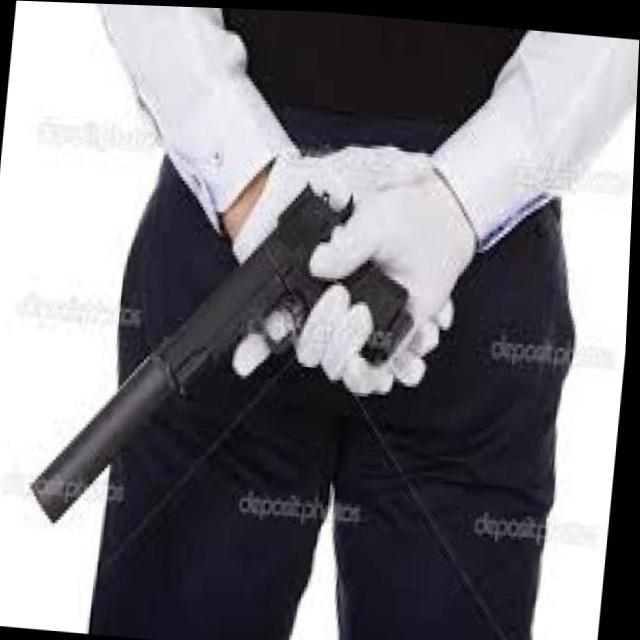weapon: (28, 151, 443, 552)
